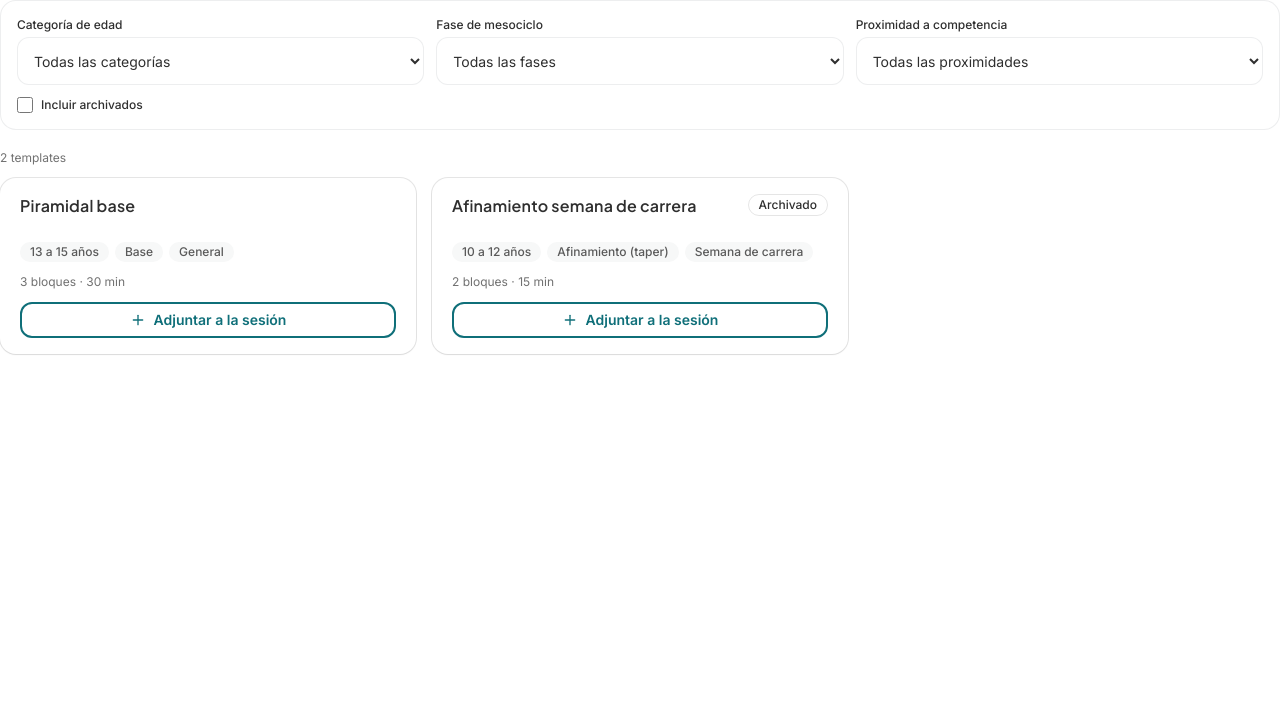
Test: TemplatePicker — compuerta por edad confirmable (FR-007) › abre AgeGateDialog modo confirmation con la banda del template
The width and height of the screenshot is (1280, 720).
What coordinates should you click on to do the following:
click the button "Adjuntar a la sesión" below "15 min"
I would click on:
 (640, 320)
Its box is [452,302,828,338].
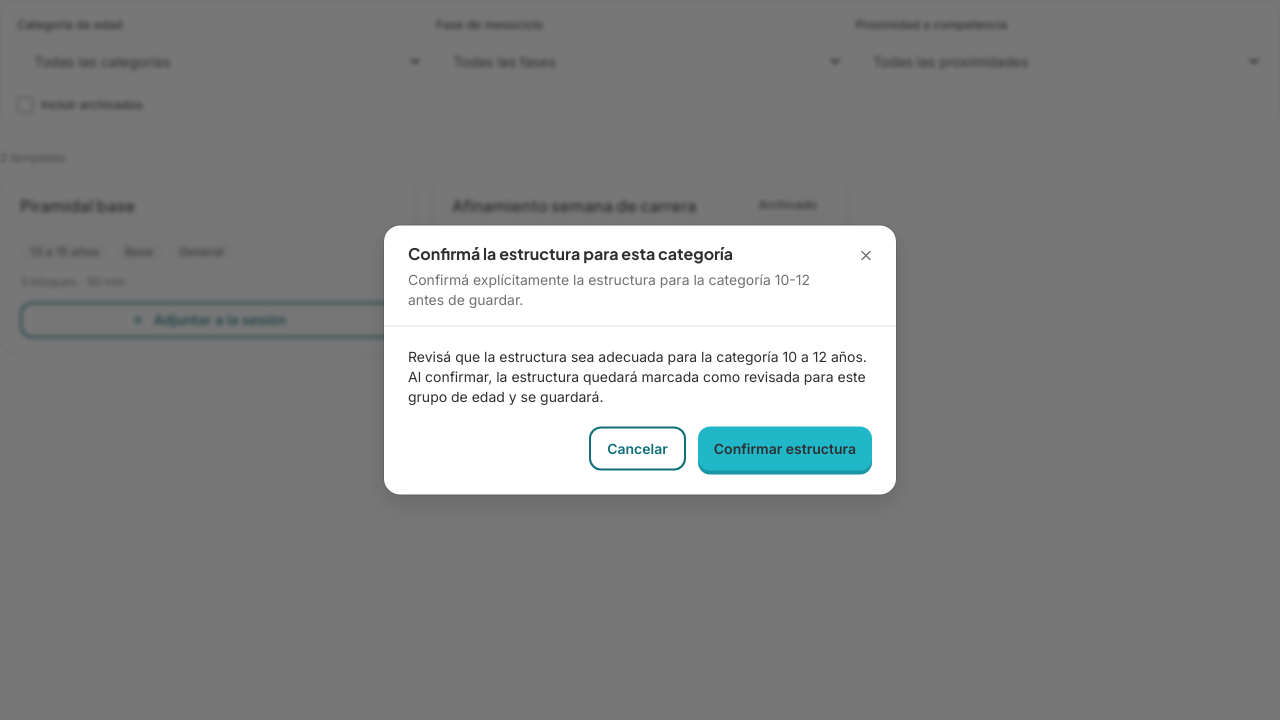
Expected: the heading "Confirmá la estructura para esta categoría" is shown, [408,242,733,264]
Expected: the text "la categoría 10 a 12 años" is shown, [408,346,872,406]
